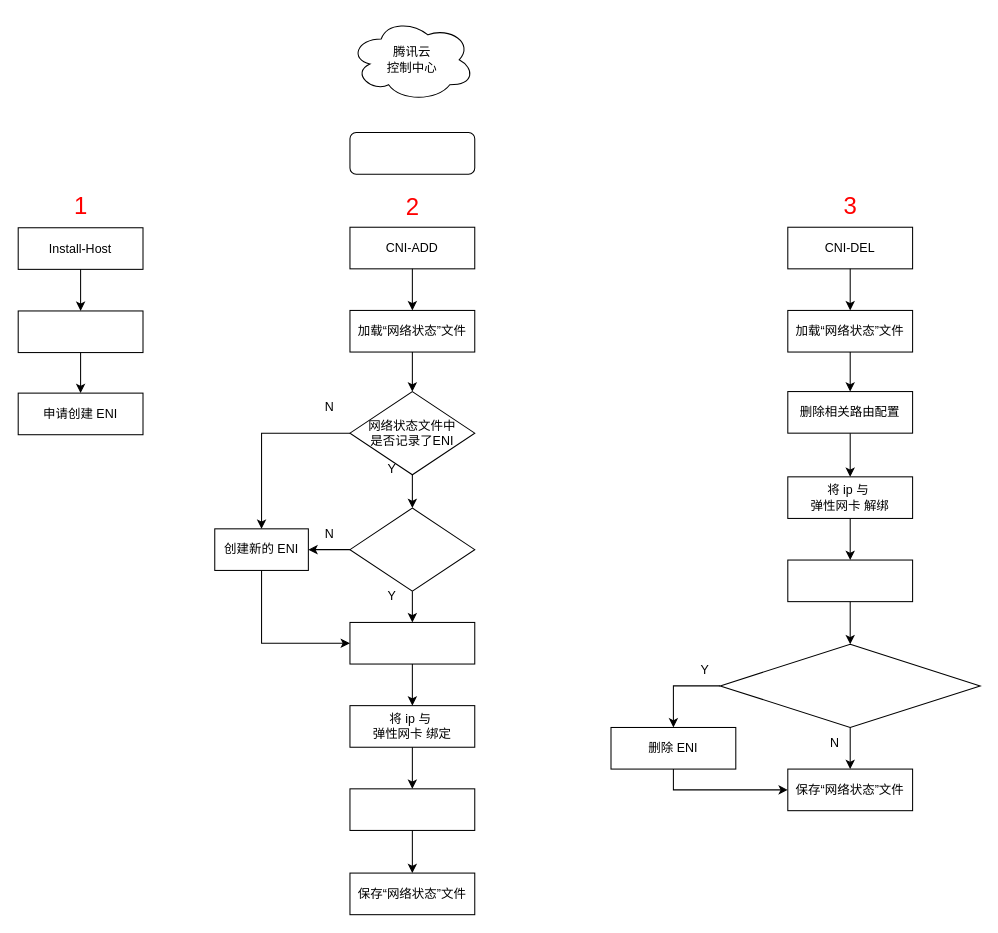
The diagram is 998 pixels wide and 933 high, and some of its shapes have lost their labels. Here are the shapes that lost their labels. From the top down, the centre of each, then its label:
At (x=412, y=153): "Tencent Cloud Agent".
At (x=80, y=331): "执行 nic-tool".
At (x=412, y=549): "可用 IP / IP 额度 < 95%?".
At (x=850, y=580): "向 ipManager 释放 IP".
At (x=412, y=642): "向 ipManager 申请 IP".
At (x=849, y=685): "1.ENI 个数 > 1 2.可用 IP / (IP 额度-1) < 85% 3. 最后一块网卡当前没有 ip".
At (x=412, y=809): "配置相关路由".
